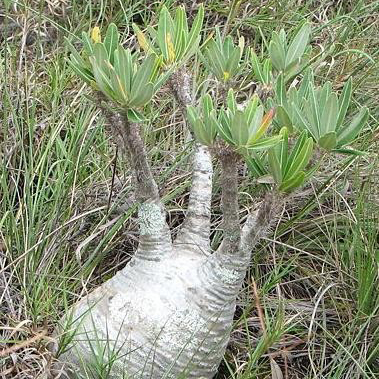Pachypodium rosulatum: (89, 39, 272, 372)
